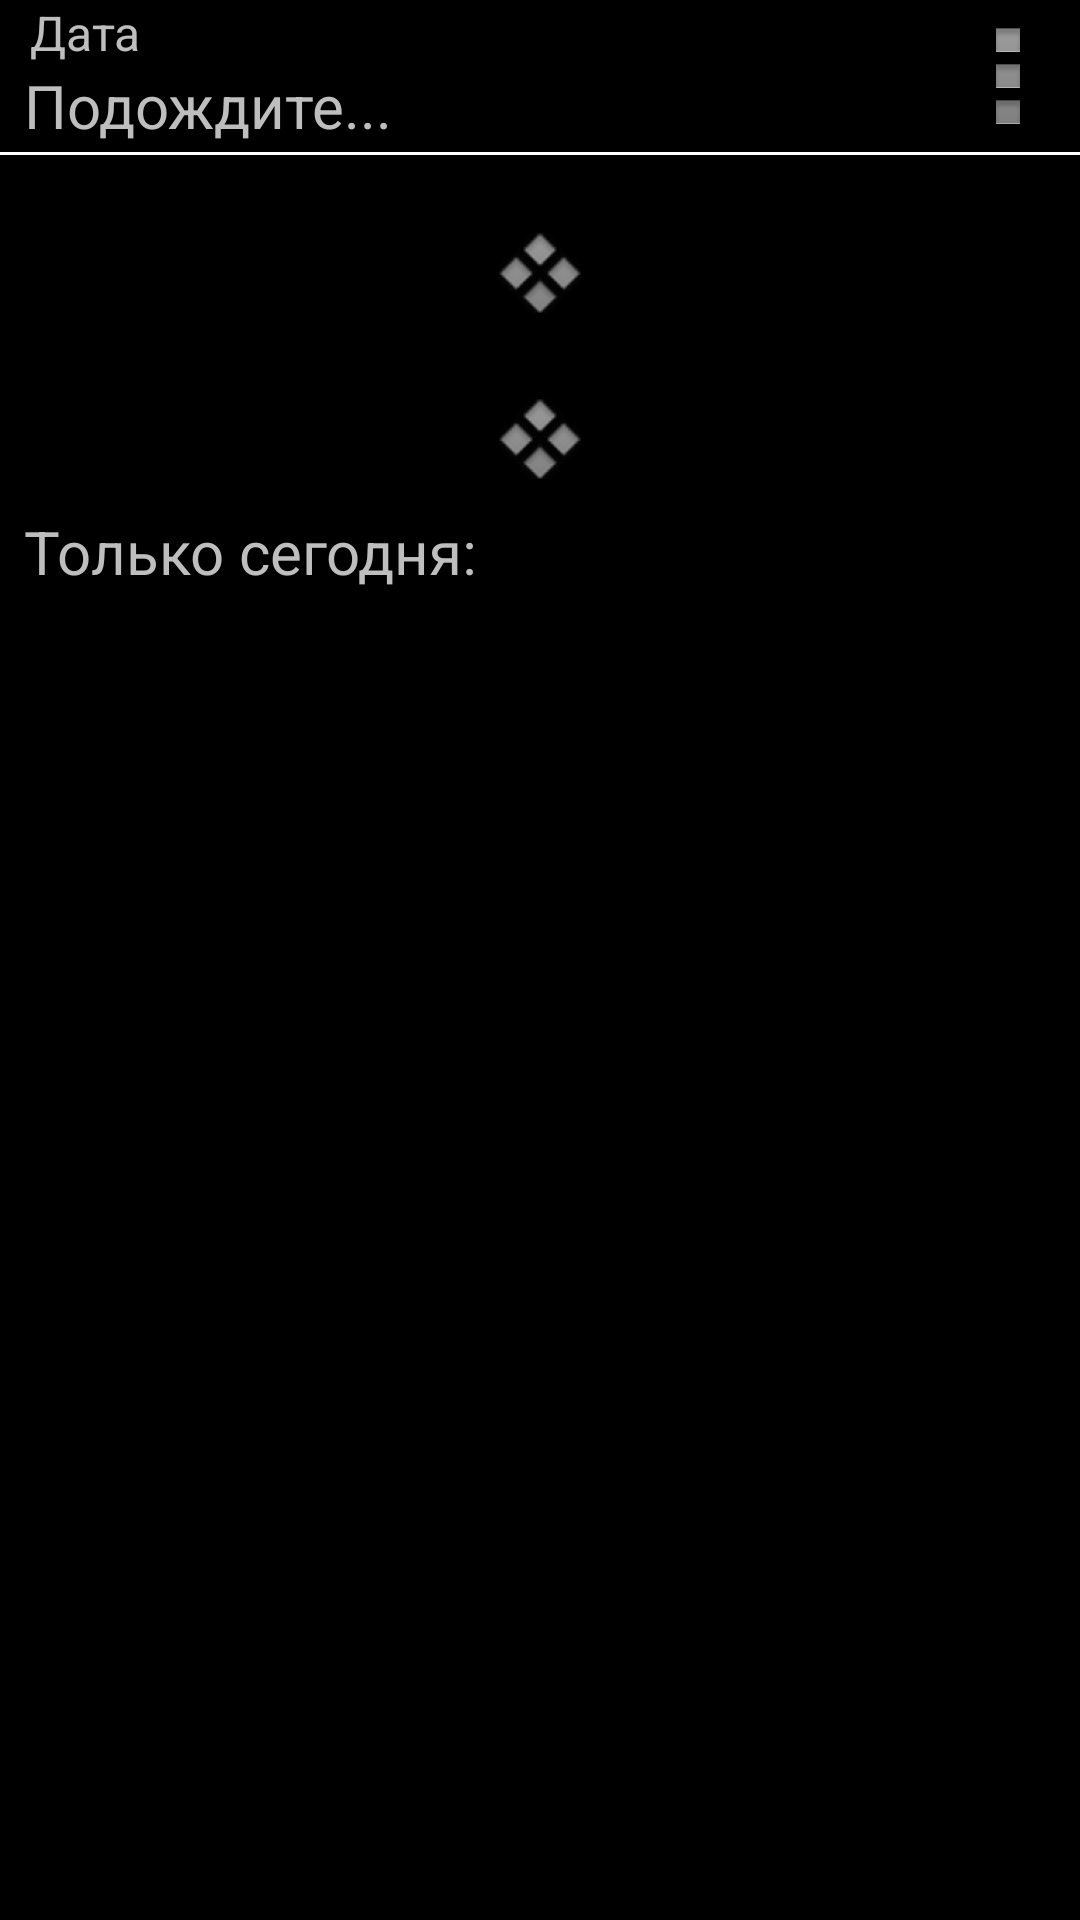

Icons on this 1080*1920 Android screen, each with the point to tap as point (x, y):
Меню: point (1008, 76)
